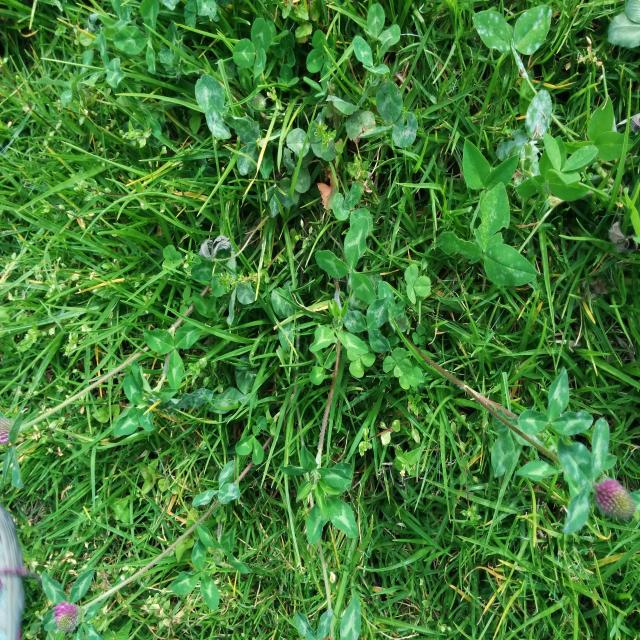Four Leaf Clover: (383, 347, 412, 378)
